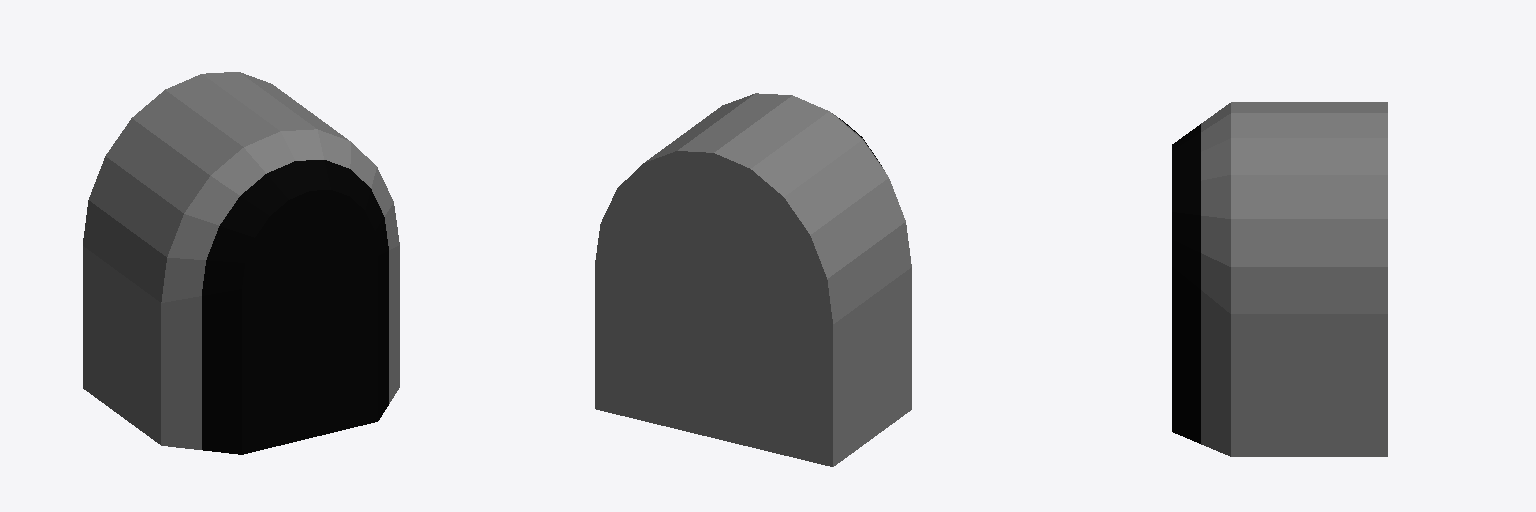
Rendered from Shoulder.obj.
The picture shows the model from 3 angles: view 1: azimuth 30°, elevation 25°; view 2: azimuth 150°, elevation 25°; view 3: azimuth 270°, elevation 25°; orthographic projection.
Visible parts, largest first — view 1: Cube; view 2: Cube; view 3: Cube.
Boxes of the visible parts, x1,y1,x2,y2 form: Cube: [83, 72, 399, 454]; Cube: [595, 93, 911, 466]; Cube: [1172, 102, 1387, 456].
Size of the model in its own units: 35 by 40 by 27.5.